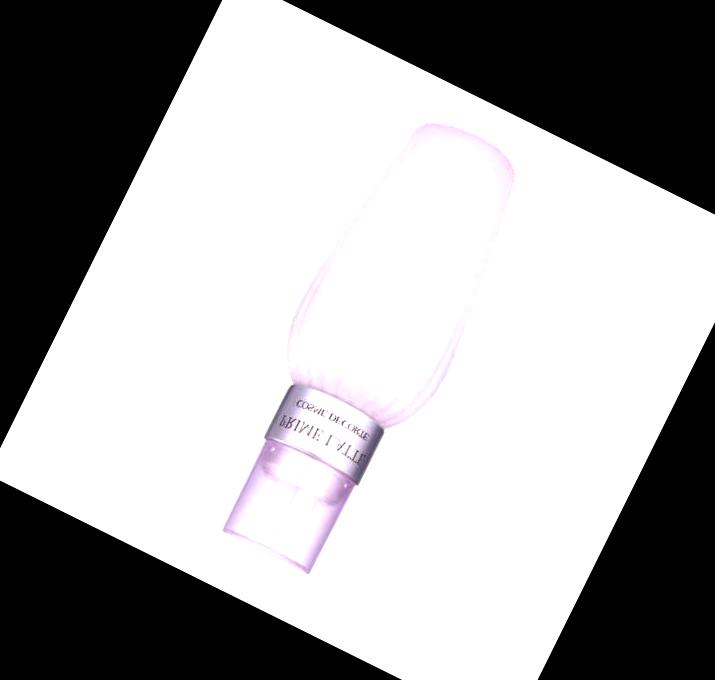cosmetic: (200, 99, 544, 593)
